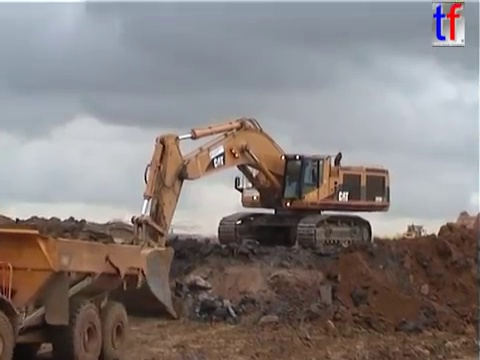excavator: (106, 114, 394, 321)
motor grader: (398, 221, 430, 244)
truck: (1, 224, 145, 360), (453, 209, 480, 247)
